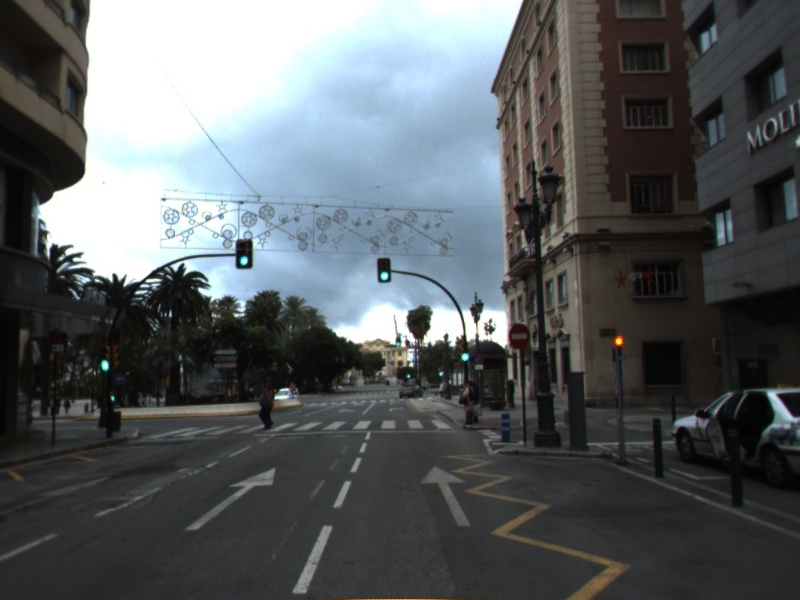STRAIGHT: (182, 465, 278, 533), (1, 475, 112, 518), (418, 463, 473, 528)
